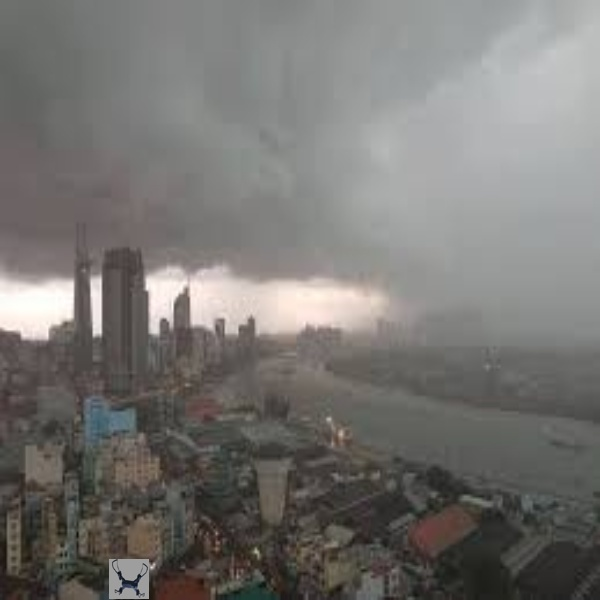drone: (110, 557, 147, 600)
